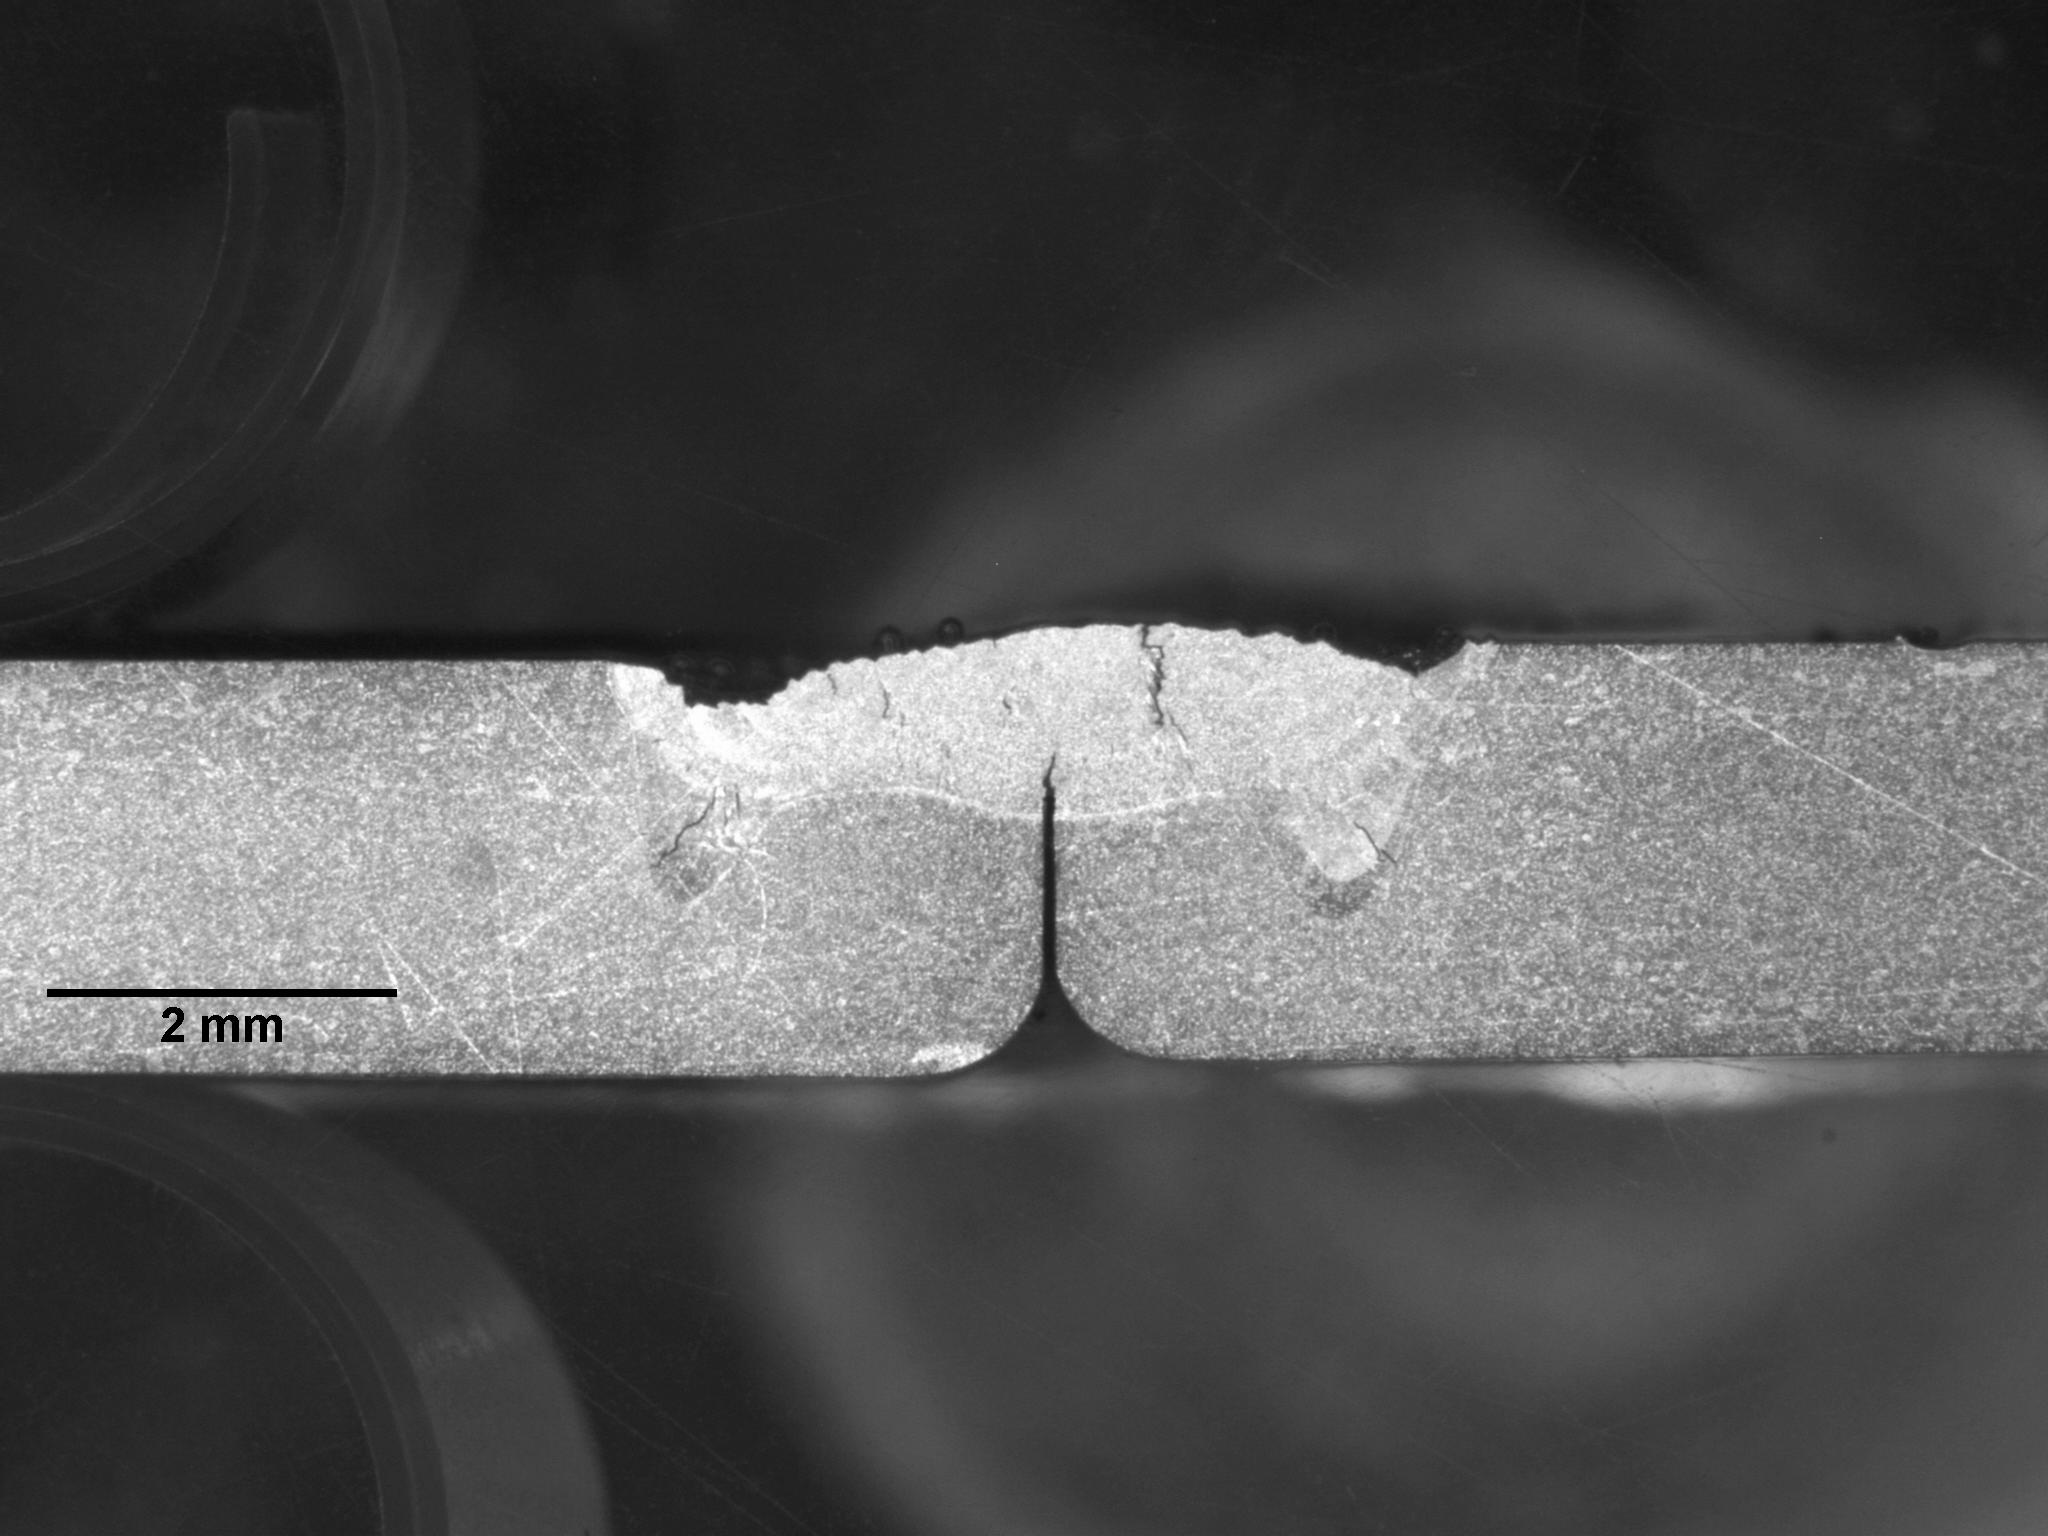Scale-bar: (40, 978, 405, 1049)
